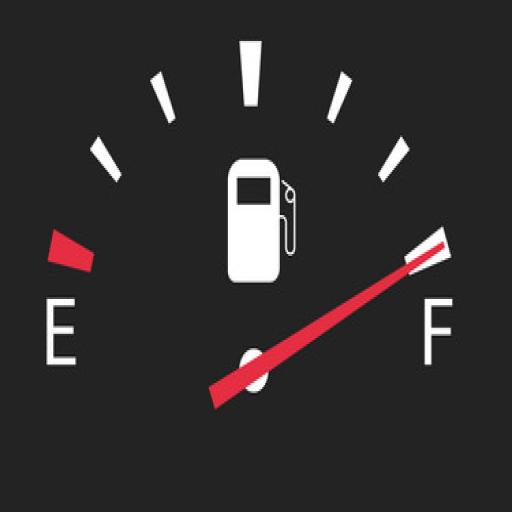empty: (44, 292, 76, 368)
fuel_icon: (226, 158, 297, 284)
full: (421, 292, 453, 371)
guage_area: (29, 37, 463, 447)
needle_center: (236, 346, 275, 400)
needle_tip: (415, 235, 446, 270)
